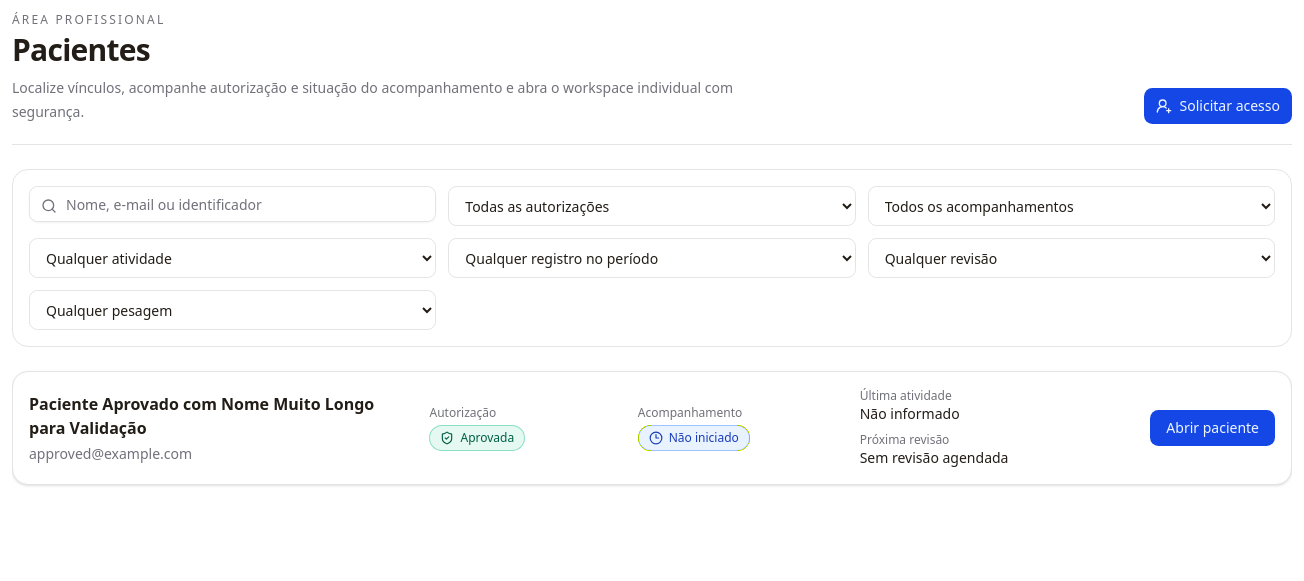
Scenario: ProfessionalPatients patient rows › keeps the authorized card visible after a transient validation failure
Click the button "Abrir paciente" at {"x": 1213, "y": 428}, box [1150, 410, 1275, 446]
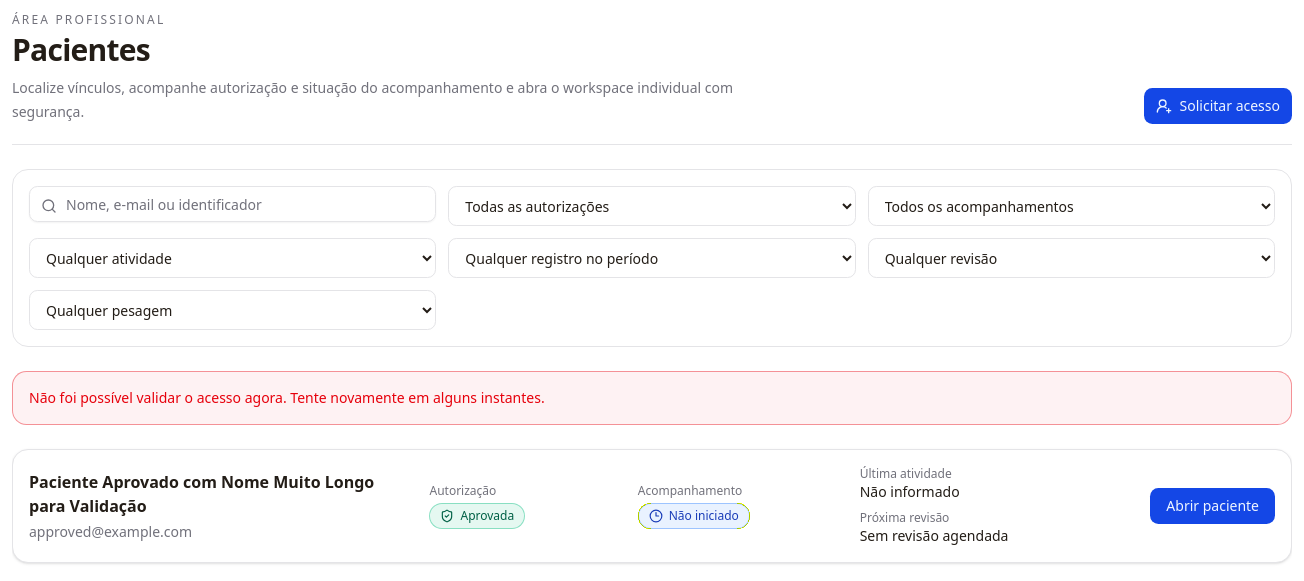
Check: the heading "Paciente Aprovado com Nome Muito Longo para Validação" is shown, box [29, 470, 414, 518]
Check: the message shows "Não foi possível validar o acesso agora.", box [29, 388, 545, 407]
